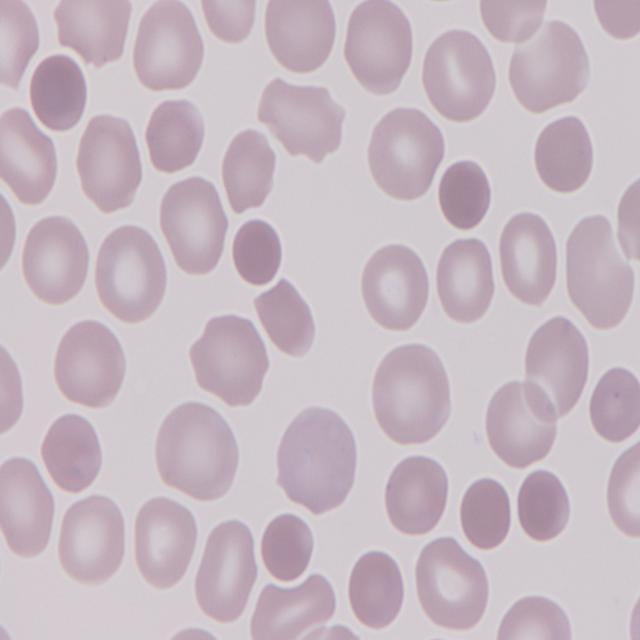RBC: (275, 407, 361, 515), (370, 340, 454, 450), (155, 402, 243, 504), (562, 212, 636, 332), (192, 518, 264, 632), (506, 18, 591, 114), (90, 225, 169, 328), (410, 537, 494, 632), (522, 314, 594, 424), (419, 29, 496, 130), (365, 106, 446, 202), (157, 175, 230, 281), (191, 313, 271, 407), (74, 114, 148, 215), (486, 378, 564, 473), (50, 316, 127, 412), (493, 210, 566, 311), (358, 242, 436, 336), (130, 0, 206, 96), (342, 0, 417, 97), (20, 210, 94, 308), (54, 492, 130, 586), (263, 78, 348, 162), (128, 498, 200, 594), (0, 454, 60, 560), (434, 234, 498, 329), (0, 109, 62, 207), (382, 453, 450, 541), (264, 0, 342, 76), (49, 0, 132, 71), (39, 410, 105, 496), (220, 123, 282, 214), (347, 545, 410, 629), (145, 96, 210, 174), (584, 365, 640, 447), (258, 280, 316, 358), (0, 0, 43, 92), (606, 432, 640, 542), (497, 592, 570, 638), (478, 0, 554, 44), (0, 338, 31, 444), (196, 0, 262, 48), (614, 172, 640, 272), (586, 0, 640, 38)
Spherocyte: (532, 110, 598, 198), (29, 49, 92, 132), (256, 508, 318, 586), (455, 472, 515, 552), (514, 466, 577, 542), (230, 214, 288, 292), (440, 160, 496, 233)
